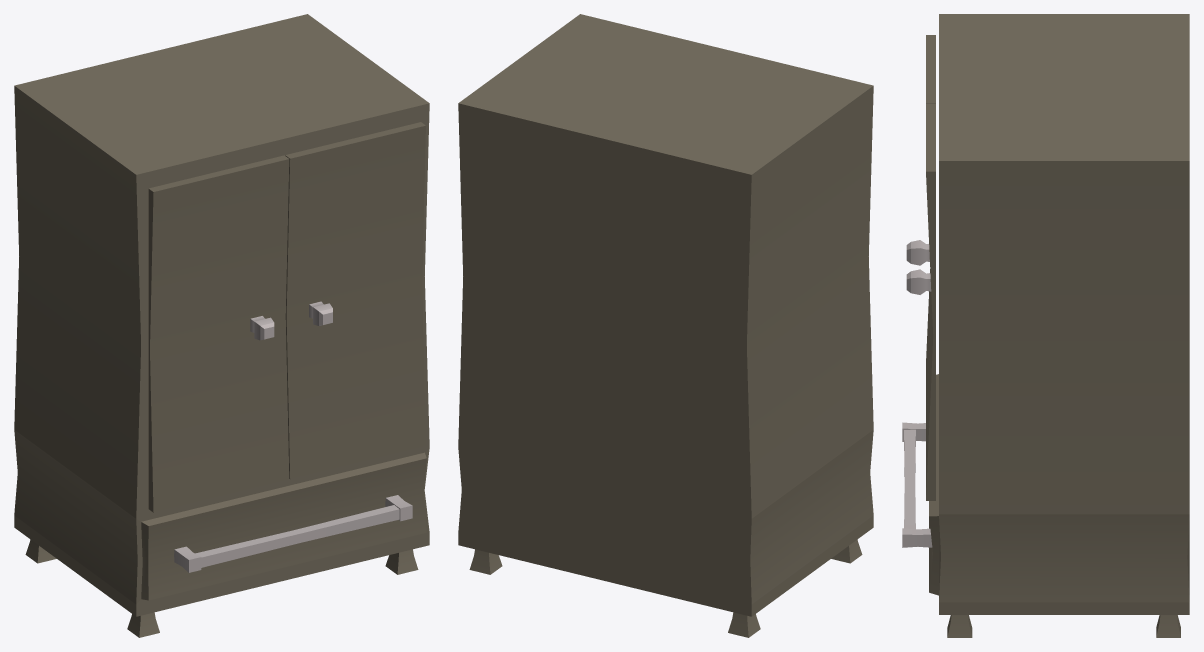
The model's file is WardrobeBasicClosed.glb.
The picture shows the model from 3 angles, left to right: view 1: azimuth 30°, elevation 25°; view 2: azimuth 150°, elevation 25°; view 3: azimuth 270°, elevation 25°; orthographic projection. The views are drawn at different scales.
Visible parts, largest first — view 1: polySurface1, pCube1, pCube3, polySurface2, pCube6, pCube9, pCube12; view 2: polySurface1, pCube10, pCube11; view 3: polySurface1, pCube3, polySurface2, pCube6, pCube1, pCube4, pCube12, pCube7, pCube11, pCube8.
Boxes of the visible parts, x1,y1,x2,y2 form: polySurface1: [14, 14, 429, 616]; pCube1: [148, 155, 289, 512]; pCube3: [285, 122, 425, 479]; polySurface2: [141, 452, 426, 600]; pCube6: [195, 505, 399, 567]; pCube9: [127, 612, 159, 637]; pCube12: [385, 549, 418, 574]; polySurface1: [458, 14, 873, 616]; pCube10: [728, 612, 760, 637]; pCube11: [469, 549, 502, 574]; polySurface1: [939, 14, 1189, 614]; pCube3: [926, 103, 935, 500]; polySurface2: [929, 374, 938, 595]; pCube6: [904, 429, 915, 529]; pCube1: [926, 35, 935, 426]; pCube4: [902, 528, 932, 547]; pCube12: [947, 615, 972, 637]; pCube7: [906, 269, 931, 294]; pCube11: [1156, 615, 1180, 637]; pCube8: [906, 240, 929, 265].
Bounding box in the file's own units: 50 × 76.17 × 41.24.
